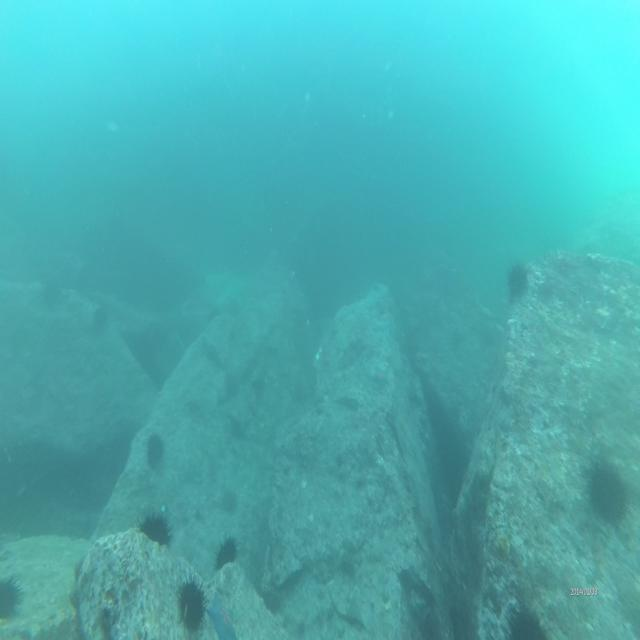echinus: (586, 452, 634, 535), (173, 571, 210, 632), (502, 597, 552, 640), (137, 506, 175, 550), (503, 255, 533, 308), (211, 530, 243, 574), (0, 573, 24, 620), (146, 426, 167, 474)
starfish: (211, 599, 237, 640)
